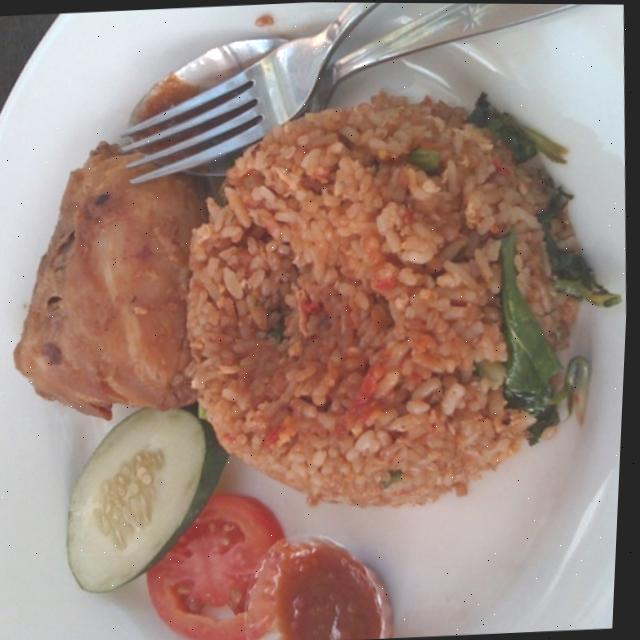米饭主食: (0, 33, 626, 640)
